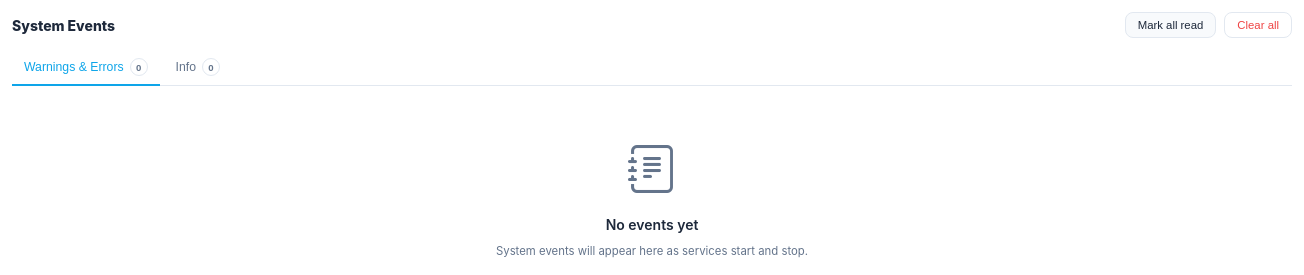
Test case: EventsPage › does not show Mark all read button on the info tab
Click the tab with test id "events-tab-info": (198, 68) [164,50,232,86]
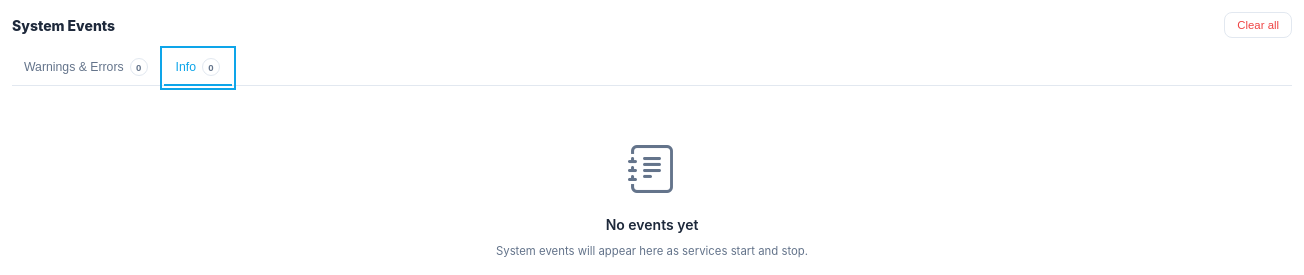
Expected: the button with test id "events-btn-mark-all-read" is gone
